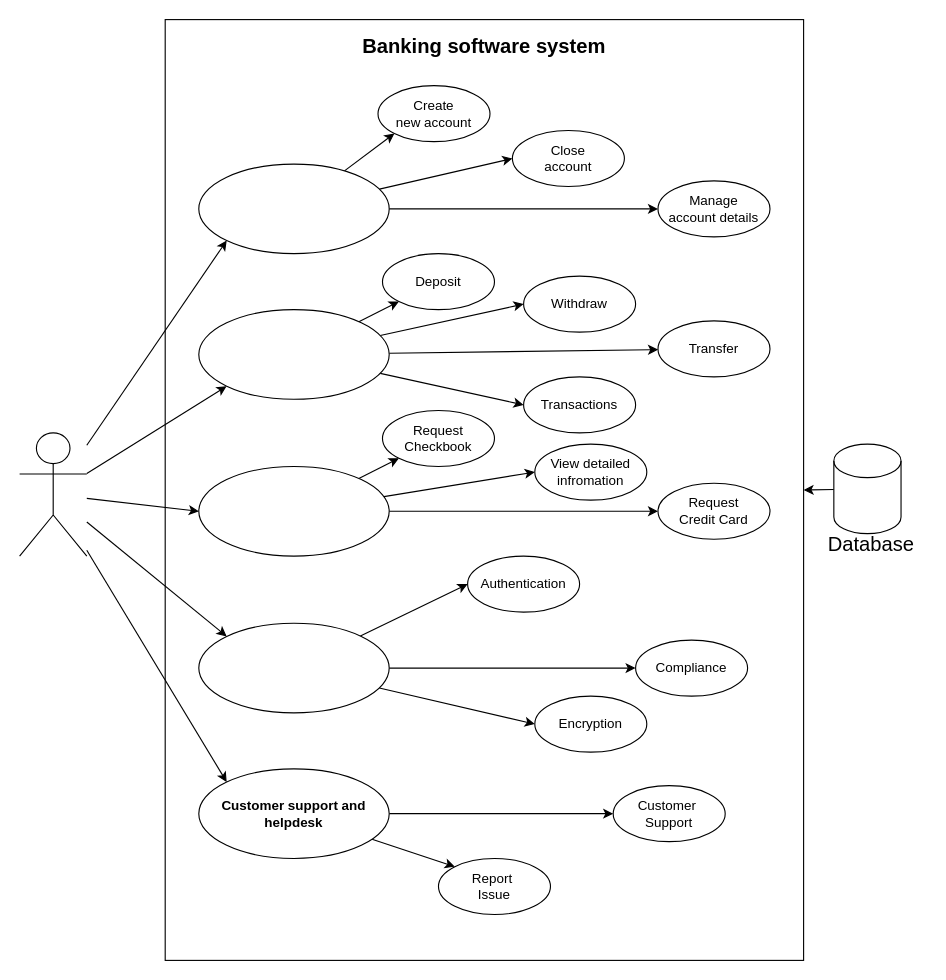
The diagram is 946 pixels wide and 980 high, and some of its shapes have lost their labels. Here are the shapes that lost their labels. From the top down, the box of each, then its label:
(198, 163, 389, 254): Account Management
(198, 309, 389, 399): Financial Transactions
(18, 432, 87, 556): User
(198, 465, 389, 556): Account Services
(198, 622, 389, 713): Security and Compliance
